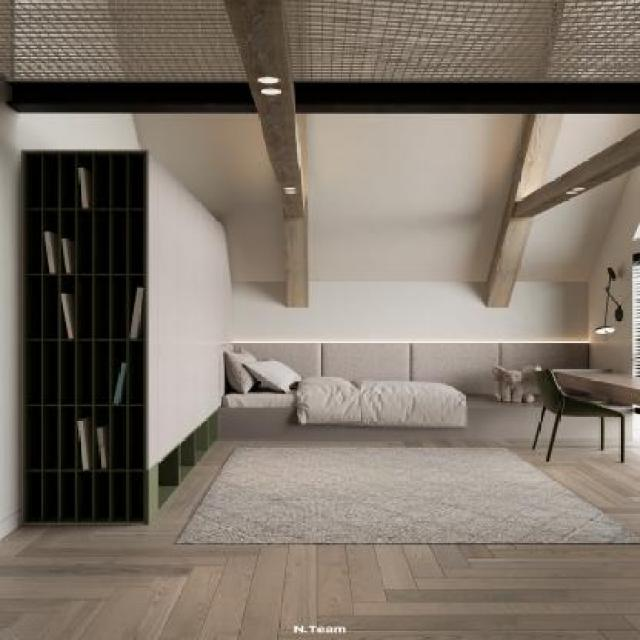Floor: (0, 440, 640, 640)
